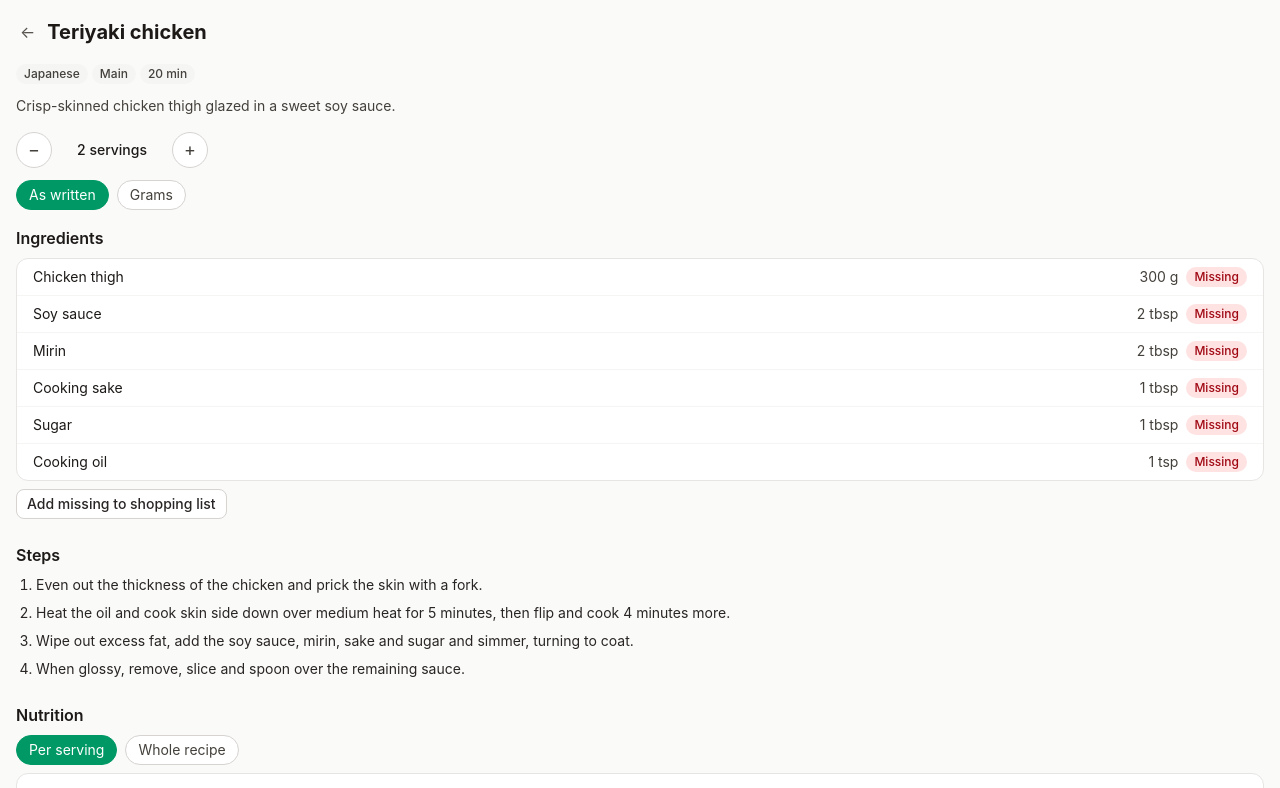
Test case: RecipeDetailPage › switches ingredient amounts to grams
The width and height of the screenshot is (1280, 788).
Check: the text "300 g" is shown, box [1140,267,1178,287]
Click the button "Grams" at (151, 195), box [117,180,186,210]
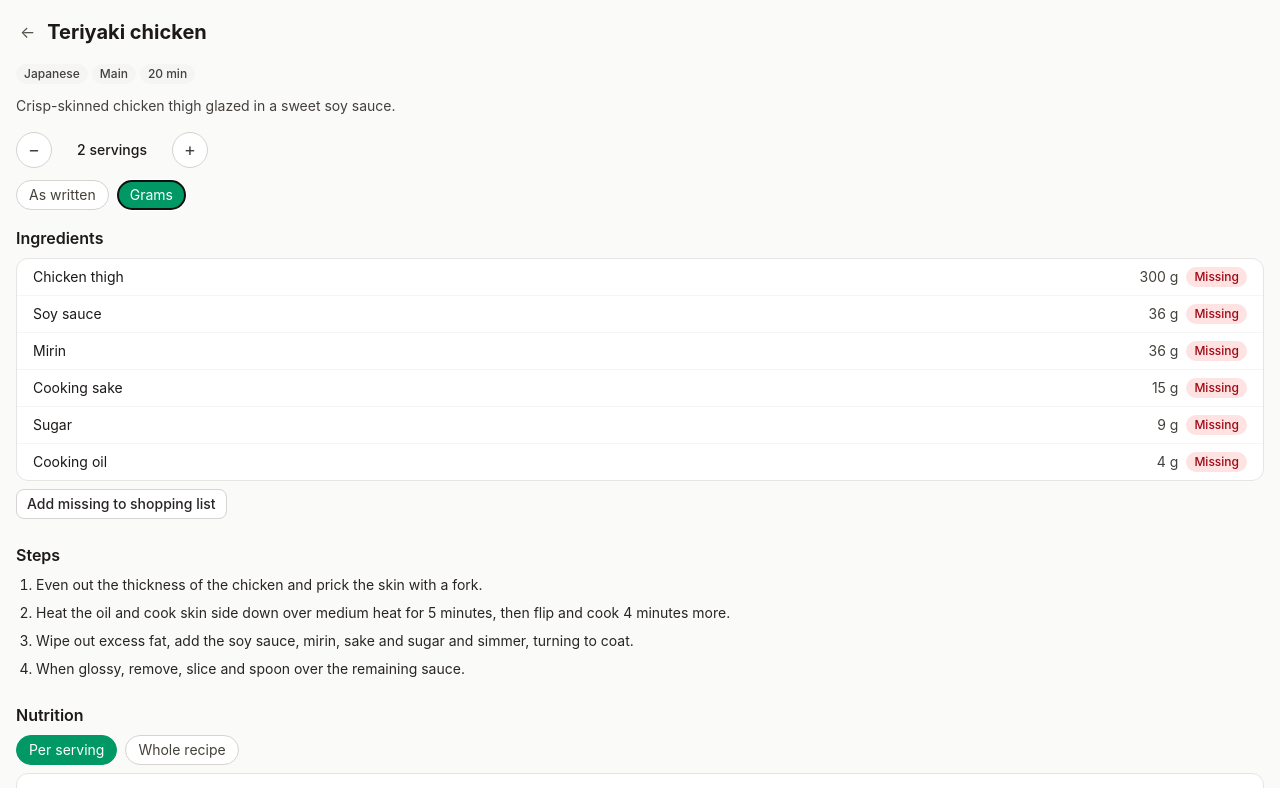
Check: the text "36 g" is shown 2 times, box [1149,304,1178,324]; [1149,341,1178,361]
Check: the text "9 g" is shown, box [1157,415,1178,435]
